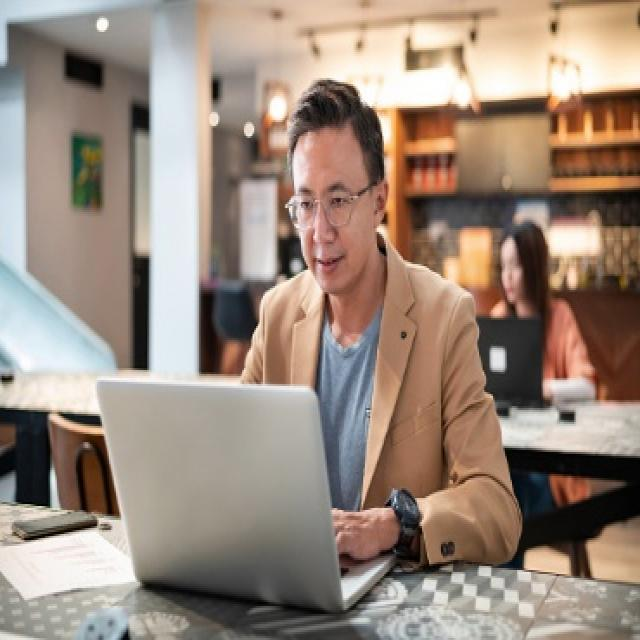adult: (236, 80, 524, 573)
